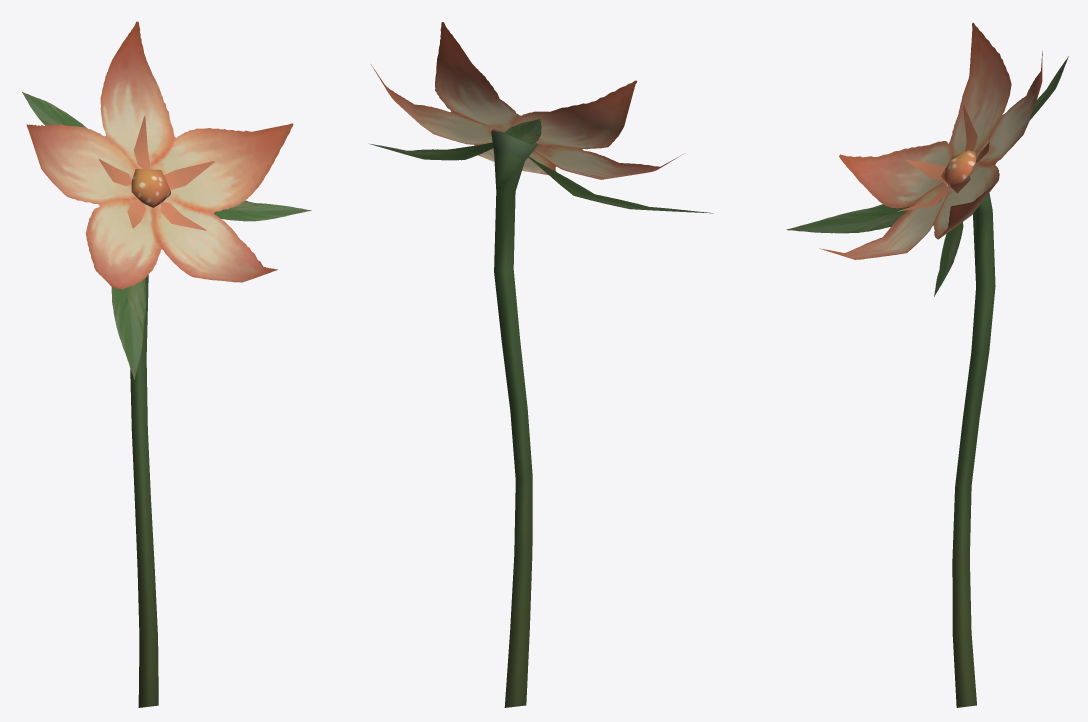
Rendered from Homeworld_General_Common_Thing_Prop_Irodori_MainFlower_03_Vo.fbx.
The picture shows the model from 3 angles, left to right: view 1: azimuth 30°, elevation 25°; view 2: azimuth 150°, elevation 25°; view 3: azimuth 270°, elevation 25°; orthographic projection. The views are drawn at different scales.
Visible parts, largest first — view 1: Homeworld_General_Common_Thing_Prop_Irodori_MainFlower_03_Vo; view 2: Homeworld_General_Common_Thing_Prop_Irodori_MainFlower_03_Vo; view 3: Homeworld_General_Common_Thing_Prop_Irodori_MainFlower_03_Vo.
Boxes of the visible parts, x1,y1,x2,y2 form: Homeworld_General_Common_Thing_Prop_Irodori_MainFlower_03_Vo: [22, 21, 311, 707]; Homeworld_General_Common_Thing_Prop_Irodori_MainFlower_03_Vo: [369, 22, 713, 707]; Homeworld_General_Common_Thing_Prop_Irodori_MainFlower_03_Vo: [786, 22, 1068, 707].
Size of the model in its own units: 0.1602 by 0.3542 by 0.1468.
Materials: 1 (1 with a texture image).
